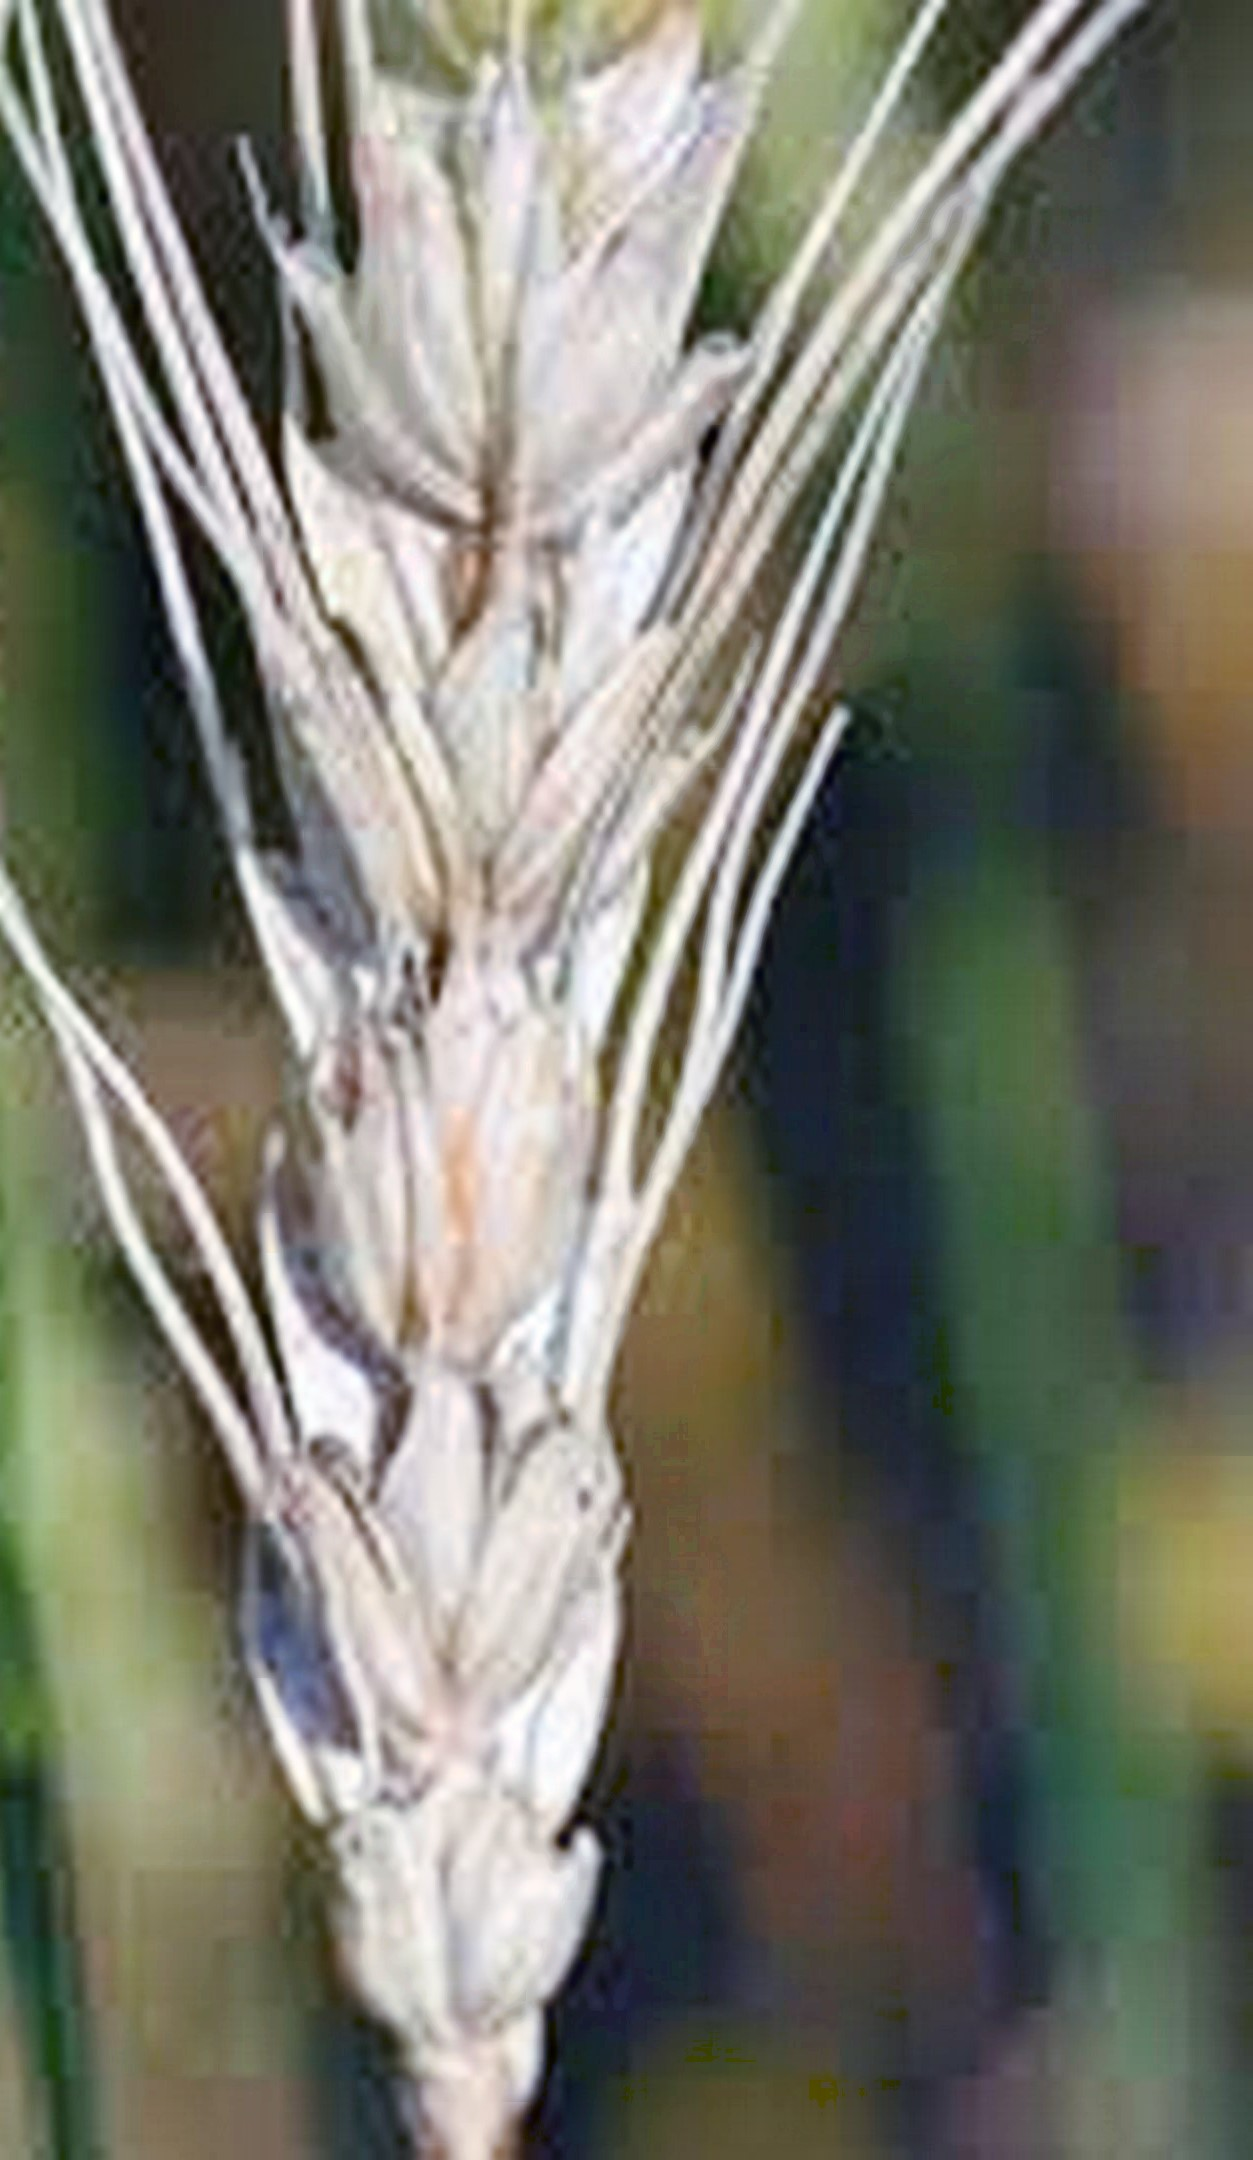Wheat scab: (75, 73, 713, 2079)
